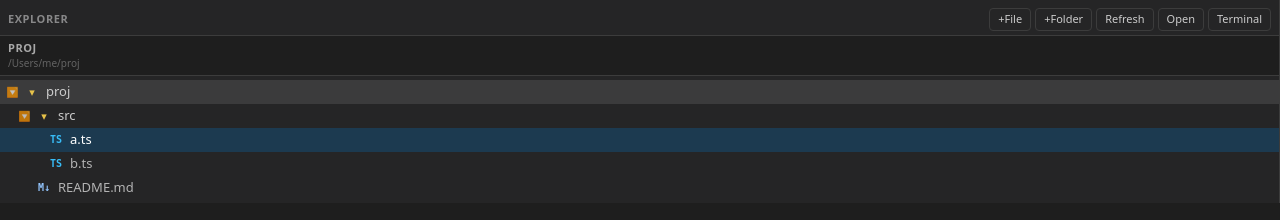
Test: Sidebar right-click rename / delete › right-click on the root folder shows New File / New Folder only
Right-click the element titled "proj" at (640, 92), box left=0, top=80, right=1279, bottom=104
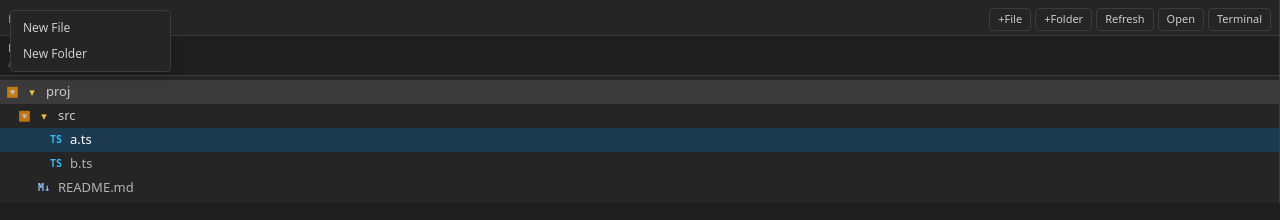
Check: the menu item with test id "context-menu-new file" is shown, box left=11, top=15, right=170, bottom=41
Check: the menu item with test id "context-menu-new folder" is shown, box left=11, top=41, right=170, bottom=67
